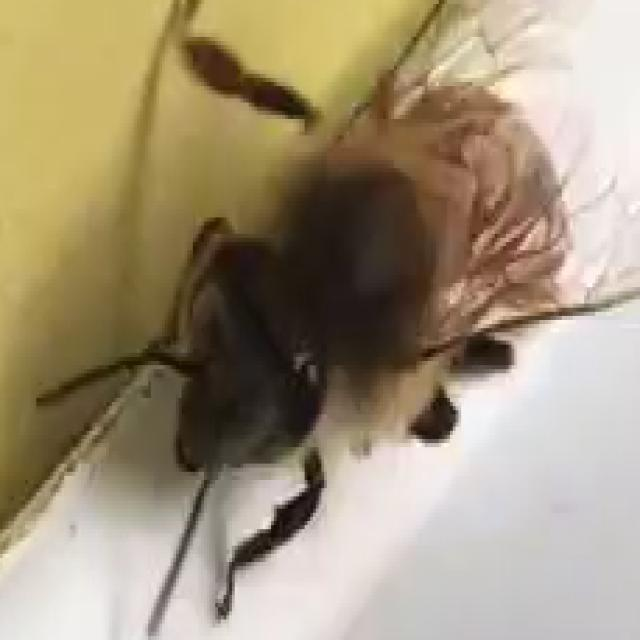honeybee: (36, 45, 614, 559)
